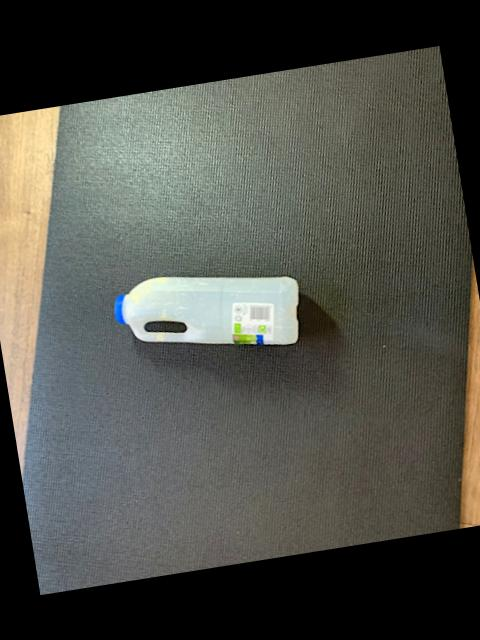plastic: (115, 275, 299, 343)
